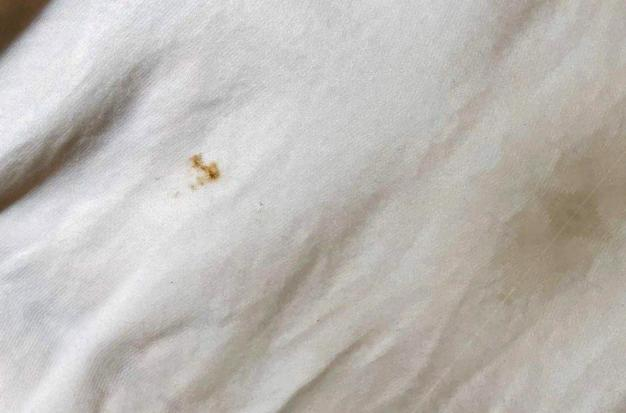stain: (179, 144, 234, 201)
